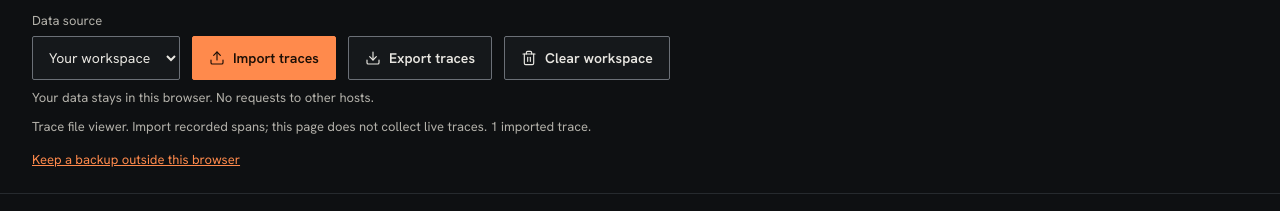
Test: Local workspace controls › requires the clear confirmation and clears only the imported workspace
This screenshot has width=1280, height=211.
What coordinates should you click on to do the following:
click the button "Clear workspace"
I would click on:
 (587, 58)
Its box is [504,36,670,80].
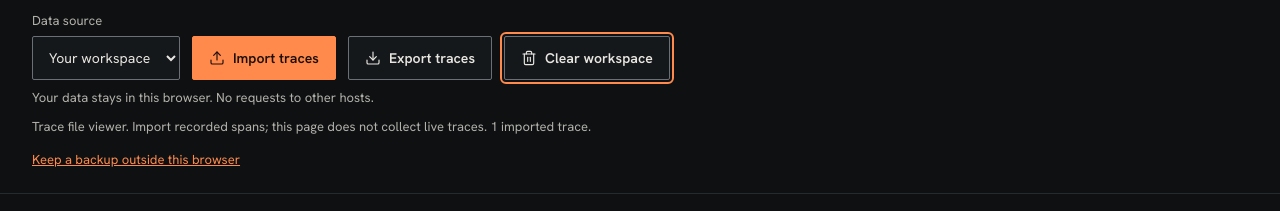
What coordinates should you click on to do the following:
click the button "Clear workspace"
I would click on:
 (587, 58)
Its box is [504,36,670,80].
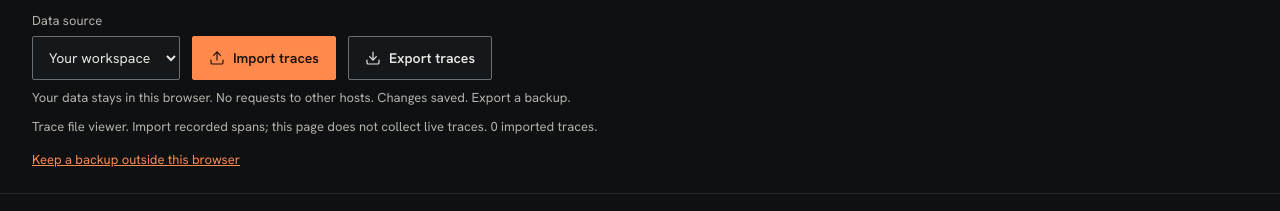
Expected: the dropdown labelled "Data source" shows "Your workspace", [32,36,180,80]
Expected: the button "Clear workspace" is gone
Expected: the text "0 imported traces." is shown, [490,118,597,135]
